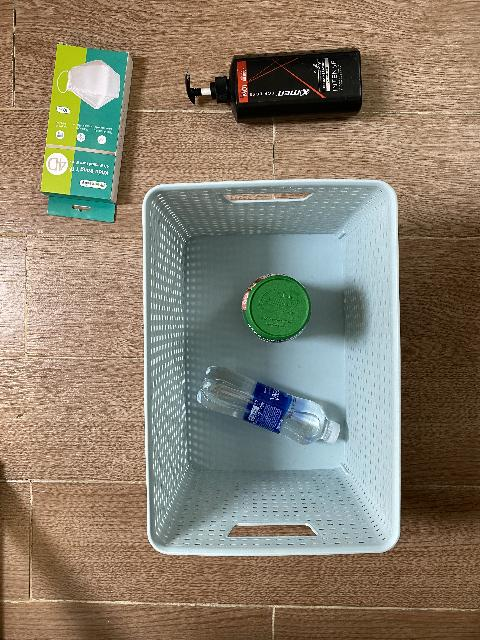4D_medical_face-mask: (40, 42, 133, 224)
X-men: (184, 47, 363, 124)
aquafina: (197, 366, 341, 445)
cart: (141, 179, 402, 558)
milo: (242, 274, 312, 343)
